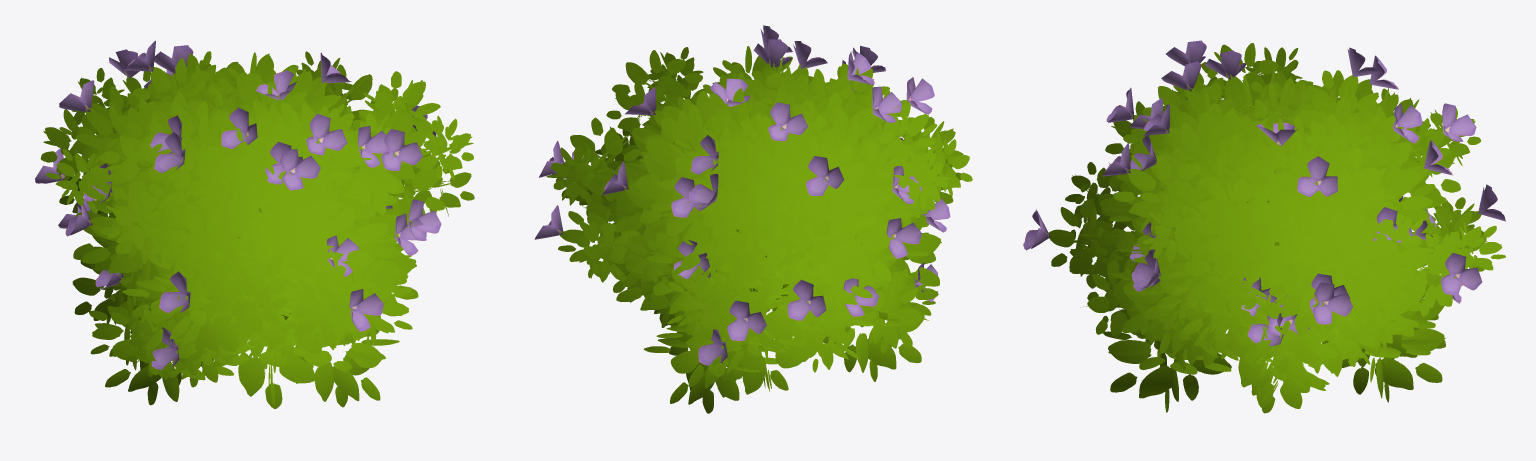
The model's file is bush_common_flowers.gltf.
The picture shows the model from 3 angles, left to right: view 1: azimuth 30°, elevation 25°; view 2: azimuth 150°, elevation 25°; view 3: azimuth 270°, elevation 25°; orthographic projection. The views are drawn at different scales.
Parts seen in each view (by area): view 1: bush_common_flowers; view 2: bush_common_flowers; view 3: bush_common_flowers.
Boxes of the visible parts, x1,y1,x2,y2 form: bush_common_flowers: [35, 40, 474, 408]; bush_common_flowers: [534, 25, 972, 413]; bush_common_flowers: [1023, 40, 1506, 413].
Bounding box in the file's own units: 0.8683 × 0.7172 × 0.8911.
Materials: 2 (2 with a texture image).
